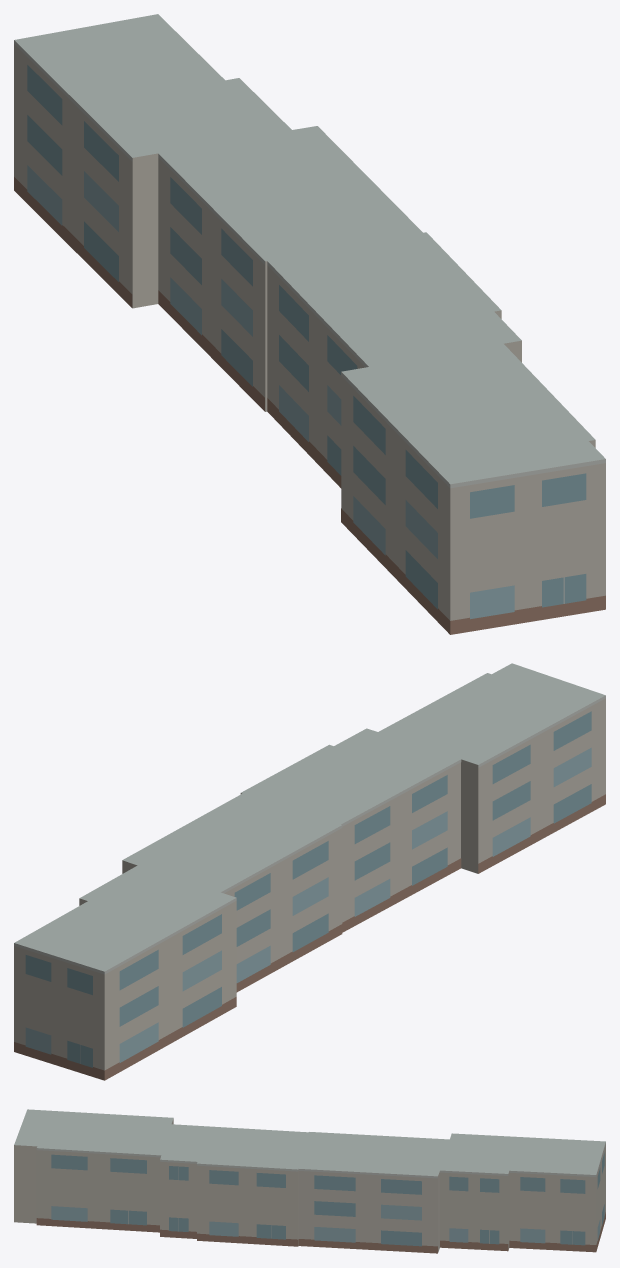
Rendered from survey-upis-32683209.glb.
The picture shows the model from 3 angles, top to bottom: view 1: azimuth 30°, elevation 25°; view 2: azimuth 150°, elevation 25°; view 3: azimuth 270°, elevation 25°; orthographic projection. The views are drawn at different scales.
Visible parts, largest first — view 1: survey-upis-32683209.tmp; view 2: survey-upis-32683209.tmp; view 3: survey-upis-32683209.tmp.
Boxes of the visible parts, <box> form: survey-upis-32683209.tmp: <box>14,14,605,634</box>; survey-upis-32683209.tmp: <box>14,663,605,1080</box>; survey-upis-32683209.tmp: <box>14,1109,605,1253</box>.
Size of the model in its own units: 17.04 by 9.15 by 63.6.
